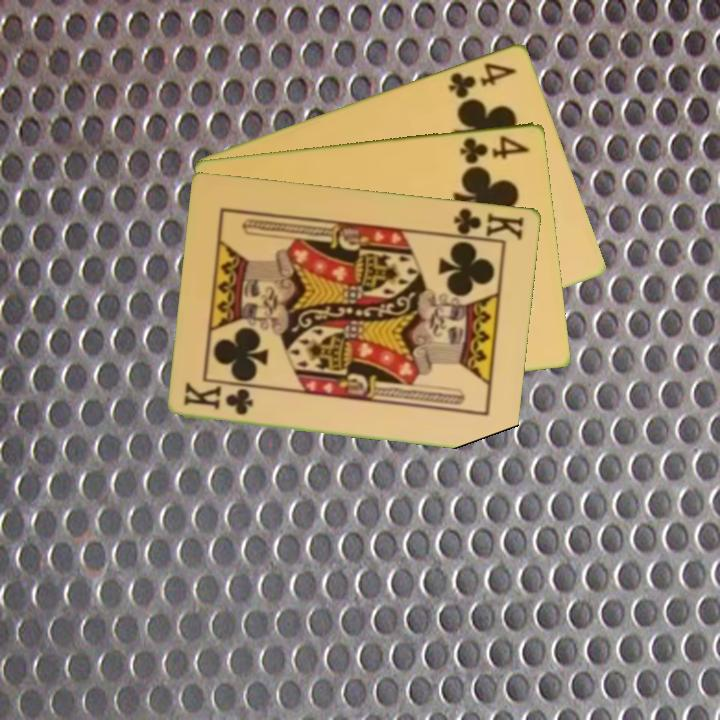4c: (445, 58, 520, 101), (456, 131, 533, 166)
Kc: (445, 204, 527, 243), (180, 380, 257, 418)
